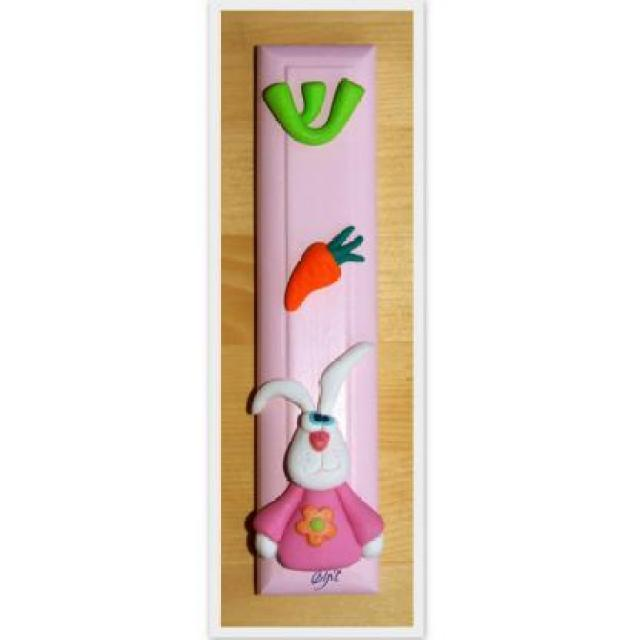Carrot: (284, 222, 366, 315)
